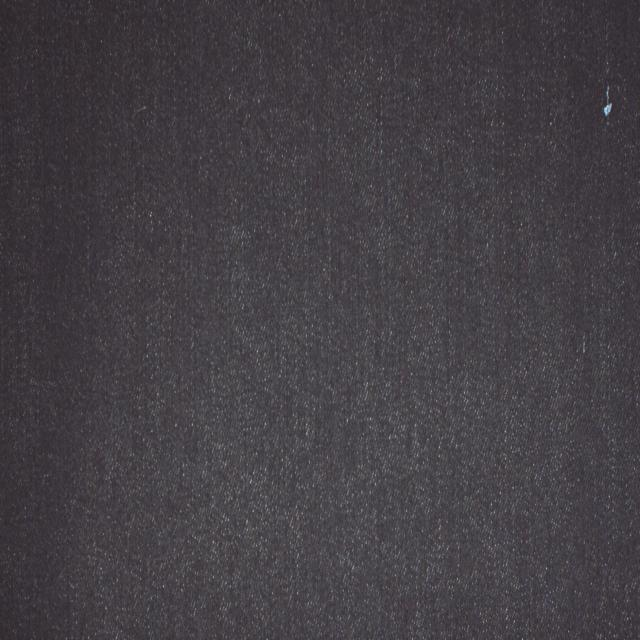Knot: (604, 84, 614, 116)
